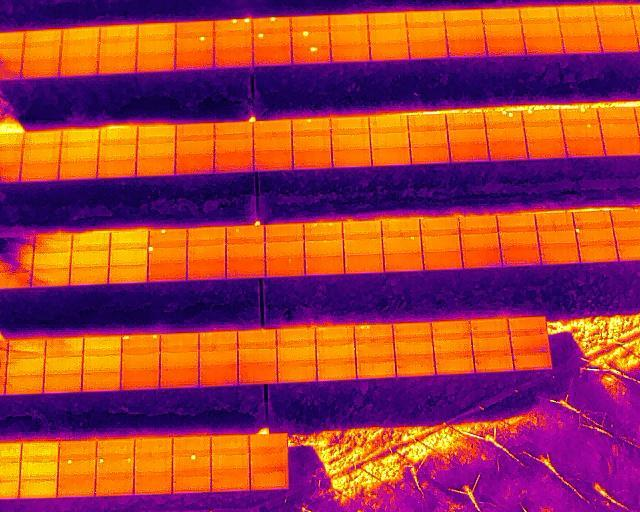Cell: (173, 454, 212, 476), (58, 458, 97, 477), (575, 227, 616, 245), (382, 235, 421, 253), (292, 45, 331, 63), (147, 245, 188, 262), (563, 124, 602, 141), (292, 119, 330, 136), (149, 229, 187, 246), (175, 35, 213, 52), (253, 32, 291, 49), (226, 226, 265, 242), (523, 111, 560, 127), (291, 31, 330, 46), (560, 109, 598, 124), (253, 17, 290, 32)
Cell-Multi: (96, 457, 134, 476), (304, 221, 343, 239), (483, 111, 522, 127), (122, 334, 159, 350), (215, 19, 252, 35), (354, 324, 393, 337)
No-Anomaly: (82, 347, 122, 372), (304, 254, 344, 276), (44, 351, 83, 373), (463, 247, 502, 269), (160, 365, 200, 386), (18, 478, 58, 499), (240, 360, 278, 382), (502, 245, 540, 267), (146, 262, 187, 282), (120, 368, 159, 389), (96, 476, 135, 497), (395, 356, 435, 376), (355, 357, 395, 377), (355, 337, 395, 357), (394, 337, 434, 357), (226, 259, 266, 279), (134, 437, 174, 457), (200, 362, 238, 383), (238, 341, 276, 362), (317, 339, 355, 360), (58, 477, 96, 498), (20, 459, 59, 479), (276, 341, 315, 361), (434, 335, 473, 355), (70, 266, 109, 286), (187, 260, 226, 280), (266, 258, 305, 278), (384, 252, 423, 272), (424, 250, 463, 270), (540, 244, 579, 264), (134, 475, 173, 495), (160, 346, 201, 365), (344, 254, 385, 273), (6, 356, 46, 375), (474, 351, 512, 371), (44, 372, 82, 392), (316, 359, 354, 379), (122, 349, 160, 369), (108, 264, 148, 283), (578, 244, 618, 263), (134, 456, 172, 476), (210, 454, 250, 473), (175, 157, 214, 176), (253, 153, 292, 172), (277, 360, 316, 379), (109, 246, 148, 265), (343, 236, 382, 255), (34, 233, 73, 252), (71, 232, 110, 251), (370, 42, 409, 61), (448, 38, 487, 57), (21, 440, 60, 459), (59, 439, 98, 458), (174, 436, 213, 455), (211, 435, 250, 454), (201, 343, 238, 363), (250, 434, 287, 454), (264, 240, 305, 258), (422, 233, 463, 251), (330, 44, 371, 62), (265, 222, 303, 241), (333, 150, 371, 169), (5, 375, 43, 394), (82, 370, 120, 389), (253, 47, 291, 66), (409, 41, 447, 60), (525, 36, 563, 55), (97, 438, 135, 457), (382, 218, 422, 236), (175, 140, 215, 158), (409, 130, 449, 148), (20, 60, 60, 78), (471, 333, 511, 351), (471, 317, 511, 335), (305, 238, 345, 256), (460, 231, 500, 249), (597, 107, 639, 124), (436, 353, 473, 372), (460, 214, 497, 233), (510, 316, 547, 335), (250, 453, 287, 472), (212, 473, 251, 491), (136, 159, 175, 177), (371, 149, 410, 167), (450, 146, 489, 164), (370, 132, 409, 150), (136, 24, 175, 42), (291, 14, 330, 32), (329, 13, 368, 31), (32, 251, 73, 268), (293, 152, 331, 170), (528, 142, 566, 160), (187, 243, 225, 261), (173, 476, 211, 494), (486, 37, 524, 55), (99, 26, 137, 44), (448, 129, 488, 146), (70, 249, 110, 266), (536, 228, 576, 245), (213, 50, 253, 67), (535, 211, 572, 229), (22, 162, 59, 180), (60, 161, 97, 179), (99, 160, 136, 178), (215, 154, 252, 172), (566, 140, 603, 158), (514, 351, 551, 369), (501, 230, 538, 248), (564, 36, 601, 54), (601, 35, 638, 53), (421, 217, 460, 234), (497, 213, 536, 230), (411, 147, 450, 164), (254, 137, 293, 154), (293, 136, 332, 153), (332, 134, 371, 151), (486, 127, 525, 144), (526, 126, 565, 143), (214, 122, 253, 139), (408, 115, 447, 132), (431, 318, 470, 335), (98, 42, 137, 59), (485, 22, 524, 39), (20, 45, 61, 61), (63, 130, 99, 148), (111, 230, 147, 248), (574, 211, 612, 228), (61, 146, 99, 163), (215, 138, 253, 155), (137, 126, 175, 143), (176, 52, 214, 69), (61, 27, 99, 44), (407, 12, 445, 29), (482, 8, 520, 25), (187, 227, 227, 243), (226, 242, 266, 258), (250, 472, 287, 489), (602, 125, 639, 142), (370, 116, 407, 133), (23, 29, 60, 46), (489, 144, 528, 160), (176, 125, 215, 141), (160, 332, 199, 348), (393, 321, 432, 337), (60, 59, 99, 75), (137, 56, 176, 72), (61, 44, 97, 61), (22, 147, 60, 163), (99, 145, 137, 161), (99, 129, 137, 145), (331, 118, 369, 134), (45, 336, 83, 352), (98, 58, 136, 74), (137, 40, 175, 56), (523, 21, 561, 37), (597, 20, 635, 36), (368, 13, 406, 29), (512, 334, 547, 351), (138, 143, 175, 159), (445, 11, 482, 27), (253, 123, 292, 138), (213, 34, 252, 49), (329, 30, 368, 45), (445, 27, 484, 42), (561, 21, 600, 36), (559, 6, 598, 21), (604, 141, 640, 157), (447, 114, 485, 129), (277, 327, 315, 342), (370, 29, 408, 44), (520, 7, 558, 22), (343, 221, 383, 235), (407, 27, 447, 41), (24, 132, 61, 147), (239, 328, 276, 342), (315, 326, 352, 340), (177, 22, 213, 36), (595, 6, 631, 20), (83, 335, 121, 348), (201, 330, 237, 343)
Shadowing: (7, 338, 46, 359), (31, 268, 70, 287)
